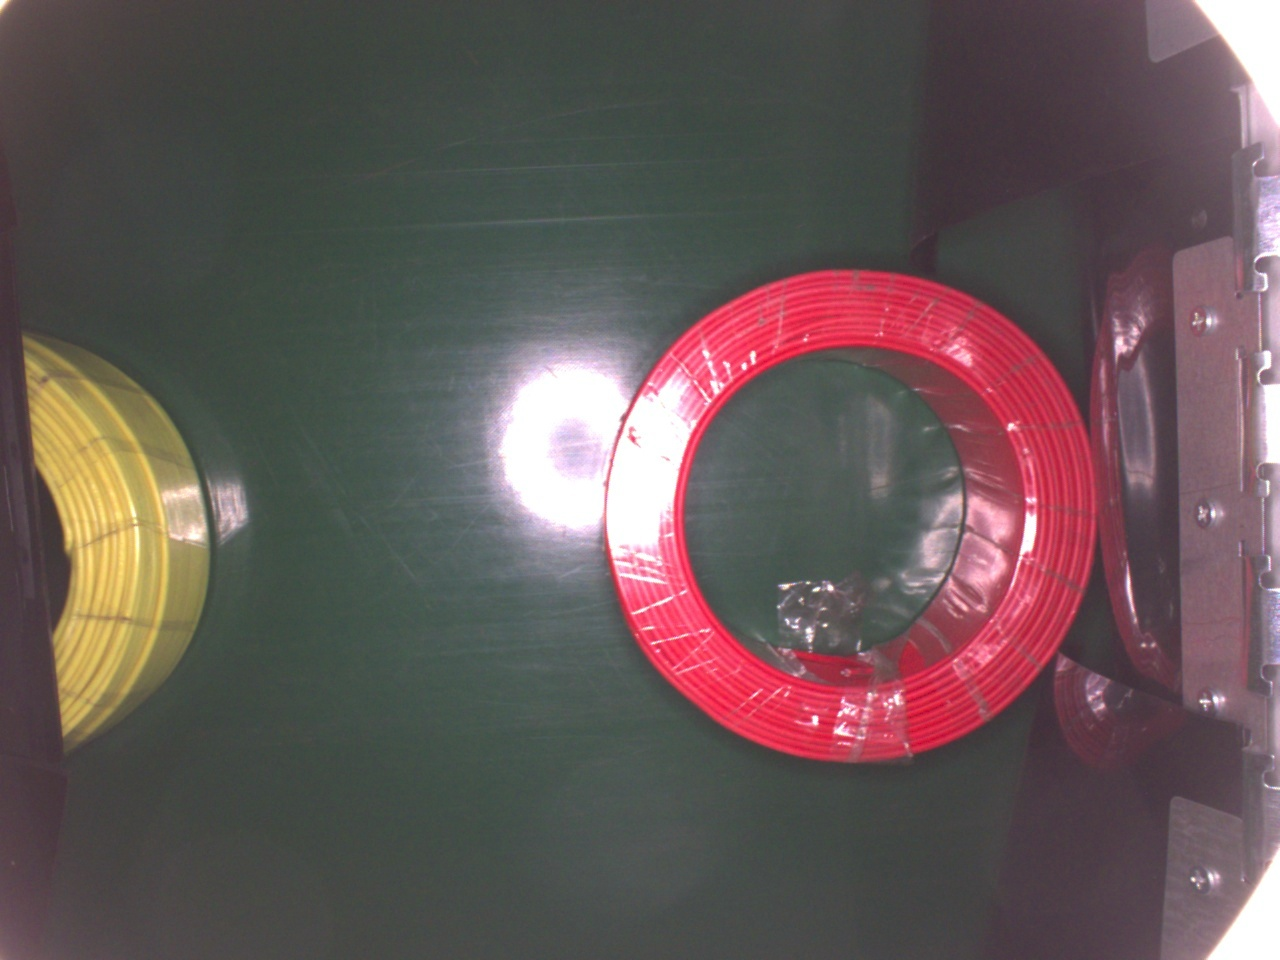red: (599, 267, 1098, 775)
yellow: (18, 325, 211, 762)
